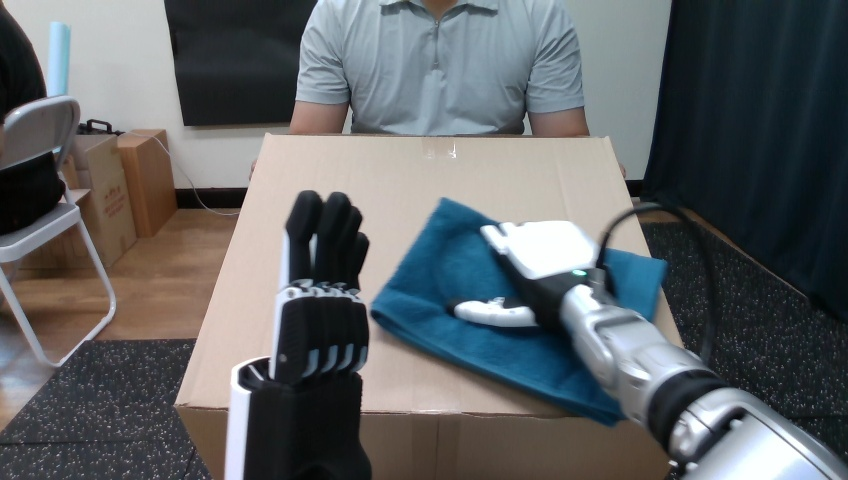left robot hand: (225, 190, 371, 479), (697, 218, 847, 462), (640, 212, 705, 350)
